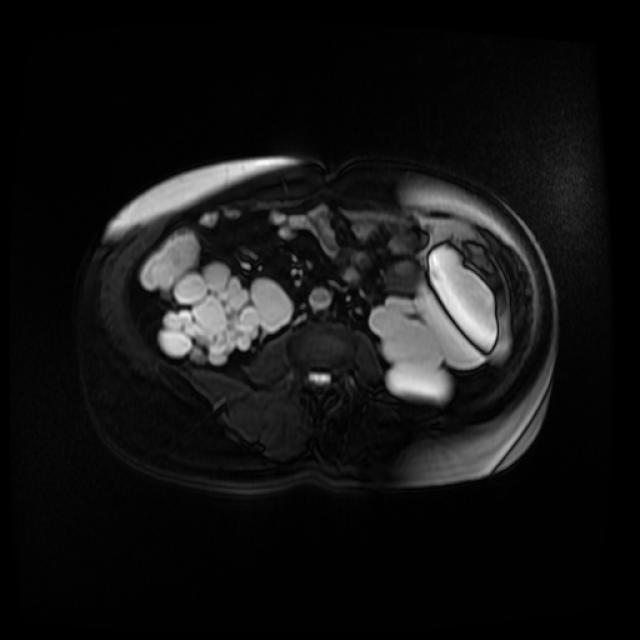sag: (157, 261, 294, 363)
sol: (368, 240, 499, 403)
